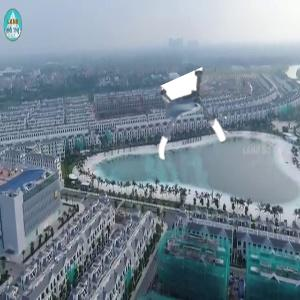drone: (143, 80, 226, 163)
